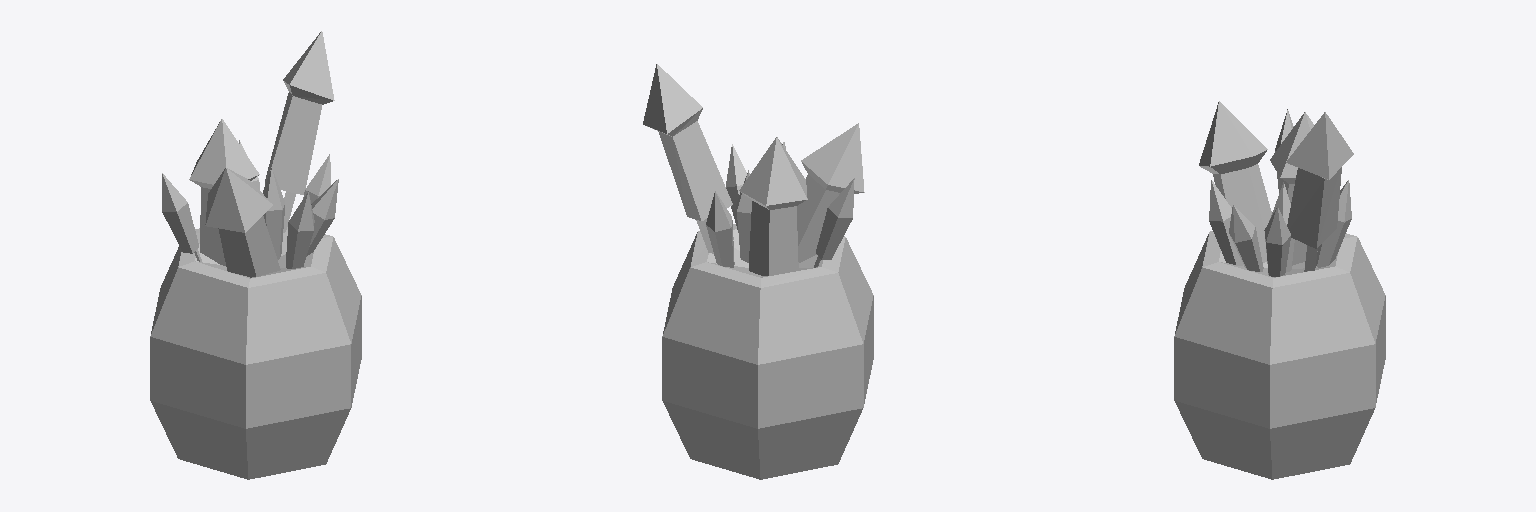
File: gunshopfireworksbarrel.obj
3 views of the same model, side by side, from view 1: azimuth 30°, elevation 25°; view 2: azimuth 150°, elevation 25°; view 3: azimuth 270°, elevation 25° (orthographic).
Parts seen in each view (by area): view 1: GunShopFireworksBarrel; view 2: GunShopFireworksBarrel; view 3: GunShopFireworksBarrel.
Boxes of the visible parts, x1,y1,x2,y2 form: GunShopFireworksBarrel: [150, 31, 361, 479]; GunShopFireworksBarrel: [643, 64, 873, 479]; GunShopFireworksBarrel: [1174, 101, 1385, 479].
Size of the model in its own units: 0.7116 by 1.27 by 0.6471.